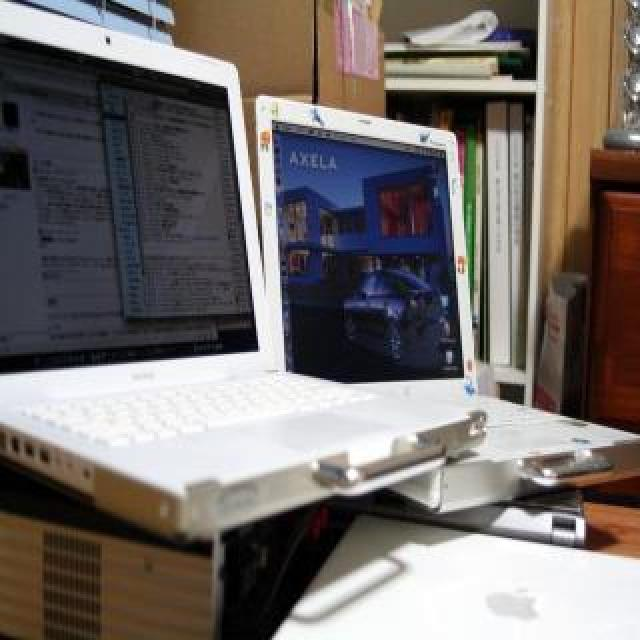laptop_computer: (265, 91, 627, 486), (0, 20, 258, 550)
